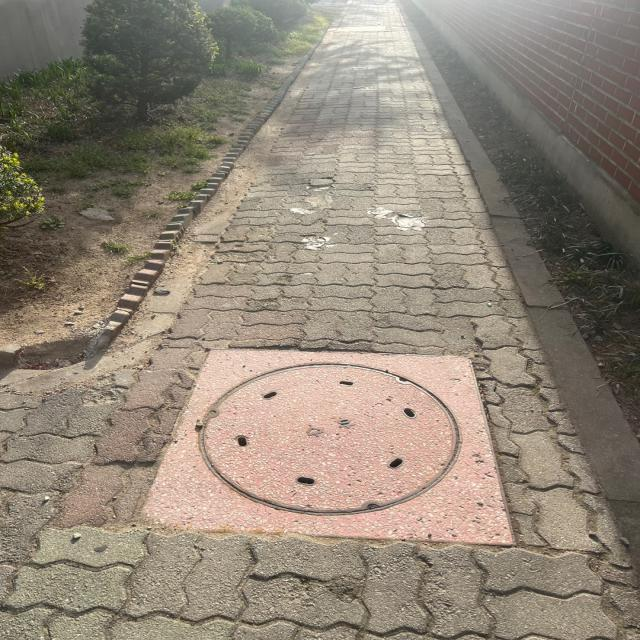Sewer Cover: (128, 328, 541, 569)
